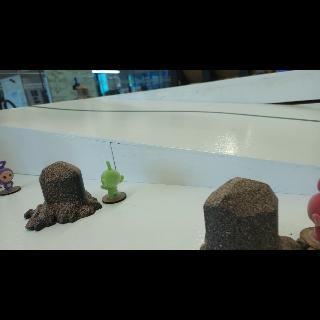teletubby: (101, 161, 124, 198), (308, 193, 320, 241), (0, 161, 13, 190), (317, 179, 320, 192)
